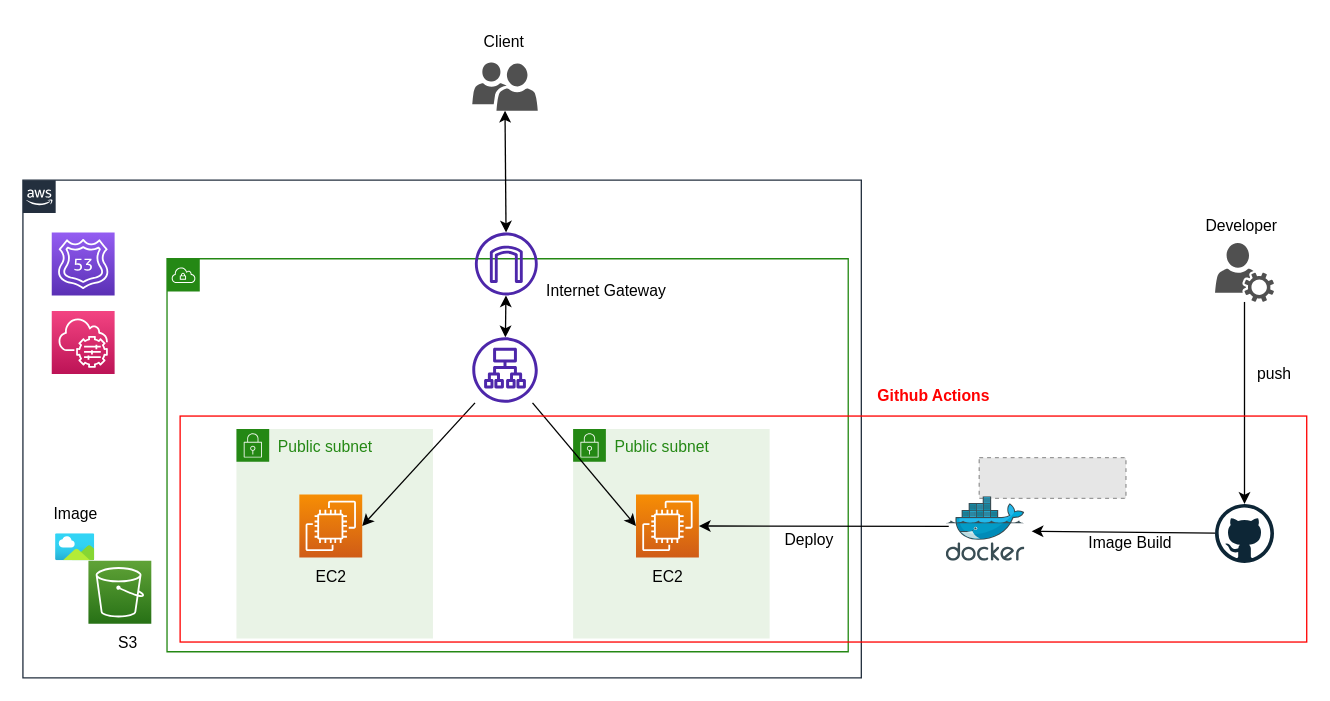
Image size: 1330x701. Some labels were removed from this diagram. Grey dashed boxes stand in for pictures. The box of each missing label's shape, as (x1, y1, x2, y2) in pixels:
AWS Cloud: (22, 179, 861, 678)
VPC: (166, 257, 848, 652)
